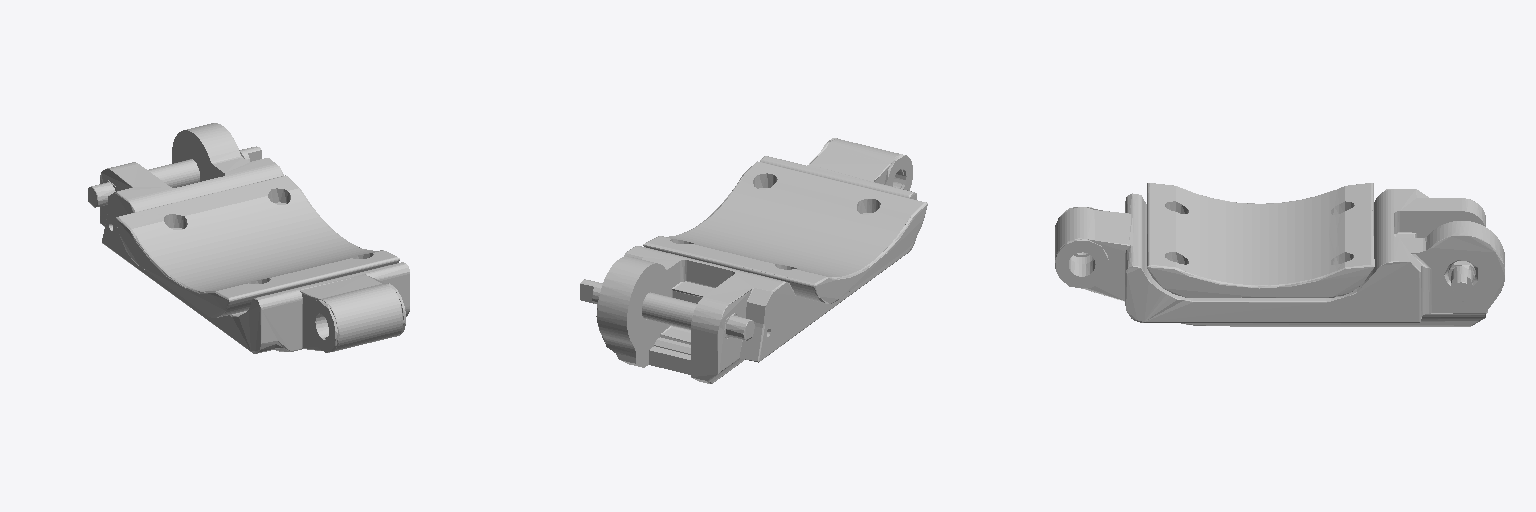
The model's file is l_proximal.obj.
The picture shows the model from 3 angles: view 1: azimuth 30°, elevation 25°; view 2: azimuth 150°, elevation 25°; view 3: azimuth 270°, elevation 25°; orthographic projection.
Size of the model in its own units: 0.0401 by 0.02 by 0.083.